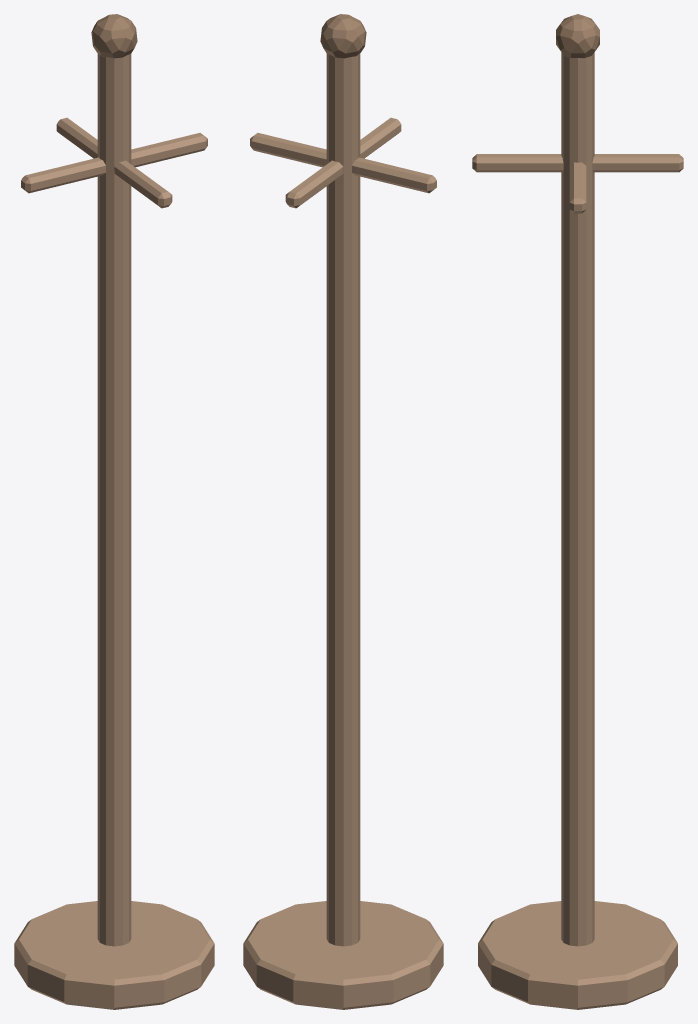
File: SM_Coat_Rack.fbx
The picture shows the model from 3 angles, left to right: view 1: azimuth 30°, elevation 25°; view 2: azimuth 150°, elevation 25°; view 3: azimuth 270°, elevation 25°; orthographic projection.
Parts seen in each view (by area): view 1: Coat_Rack; view 2: Coat_Rack; view 3: Coat_Rack.
Boxes of the visible parts, x1,y1,x2,y2 form: Coat_Rack: [14, 14, 214, 1009]; Coat_Rack: [243, 14, 443, 1009]; Coat_Rack: [472, 14, 683, 1009].
Size of the model in its own units: 38 by 189 by 38.
